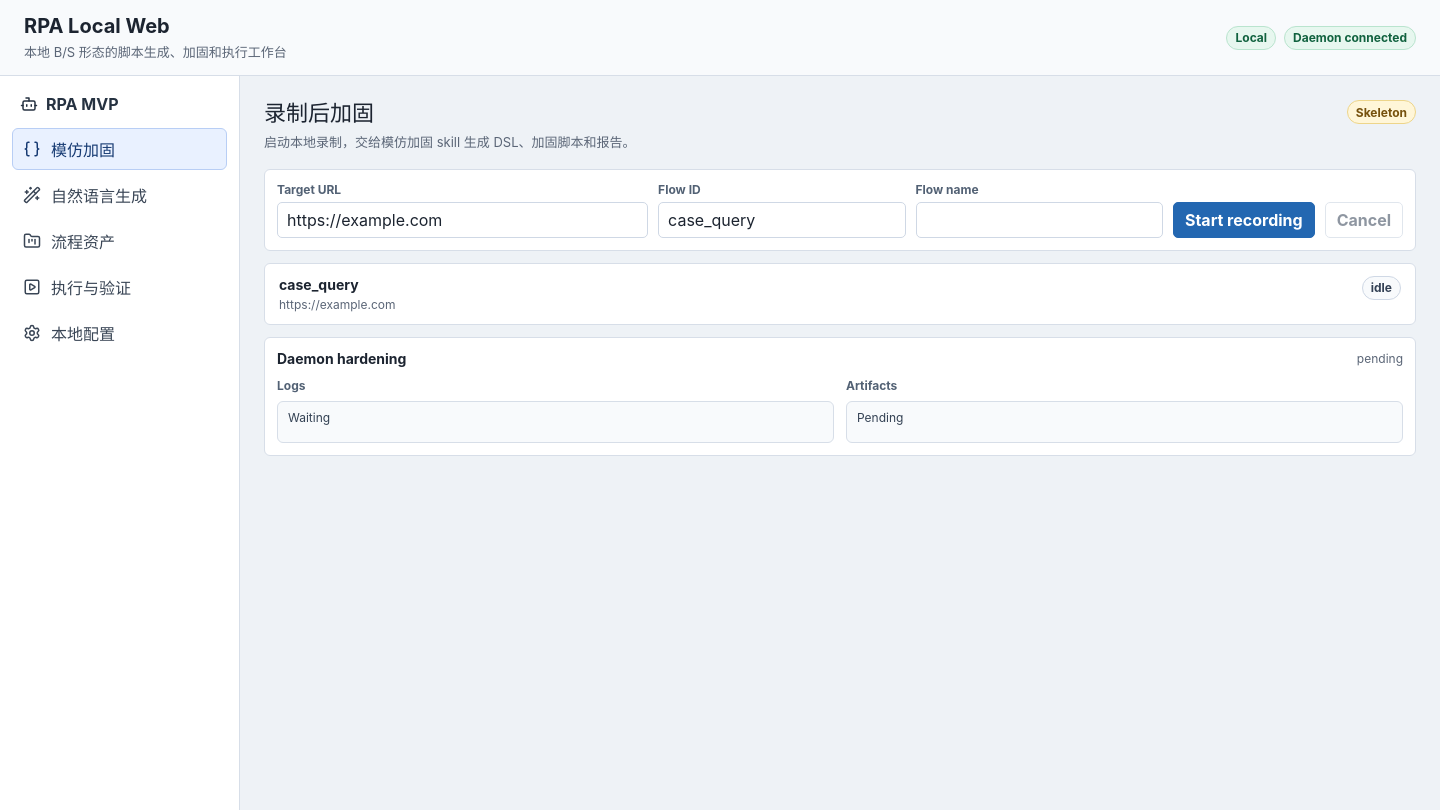
RPA local web app shell › renders dense workflow navigation and switches sections
Expected: the heading "RPA Local Web" is shown, [24, 14, 170, 38]
Expected: the heading "录制后加固" is shown, [264, 100, 374, 126]
Click the tab "自然语言生成": (120, 195) [12, 174, 227, 216]
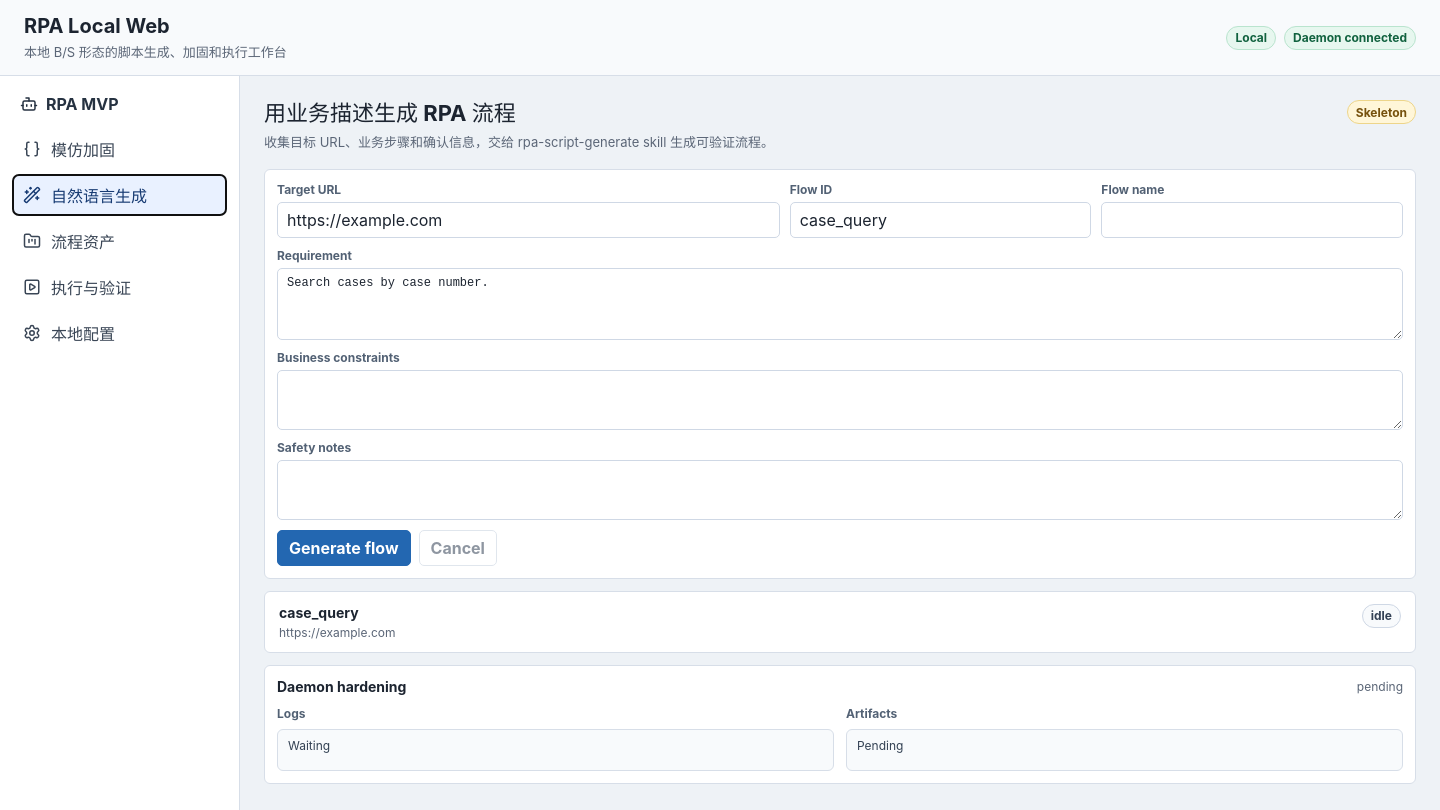
Now the heading "用业务描述生成 RPA 流程" is shown, box [264, 100, 516, 126]
Click the tab "执行与验证": (120, 287) [12, 266, 227, 308]
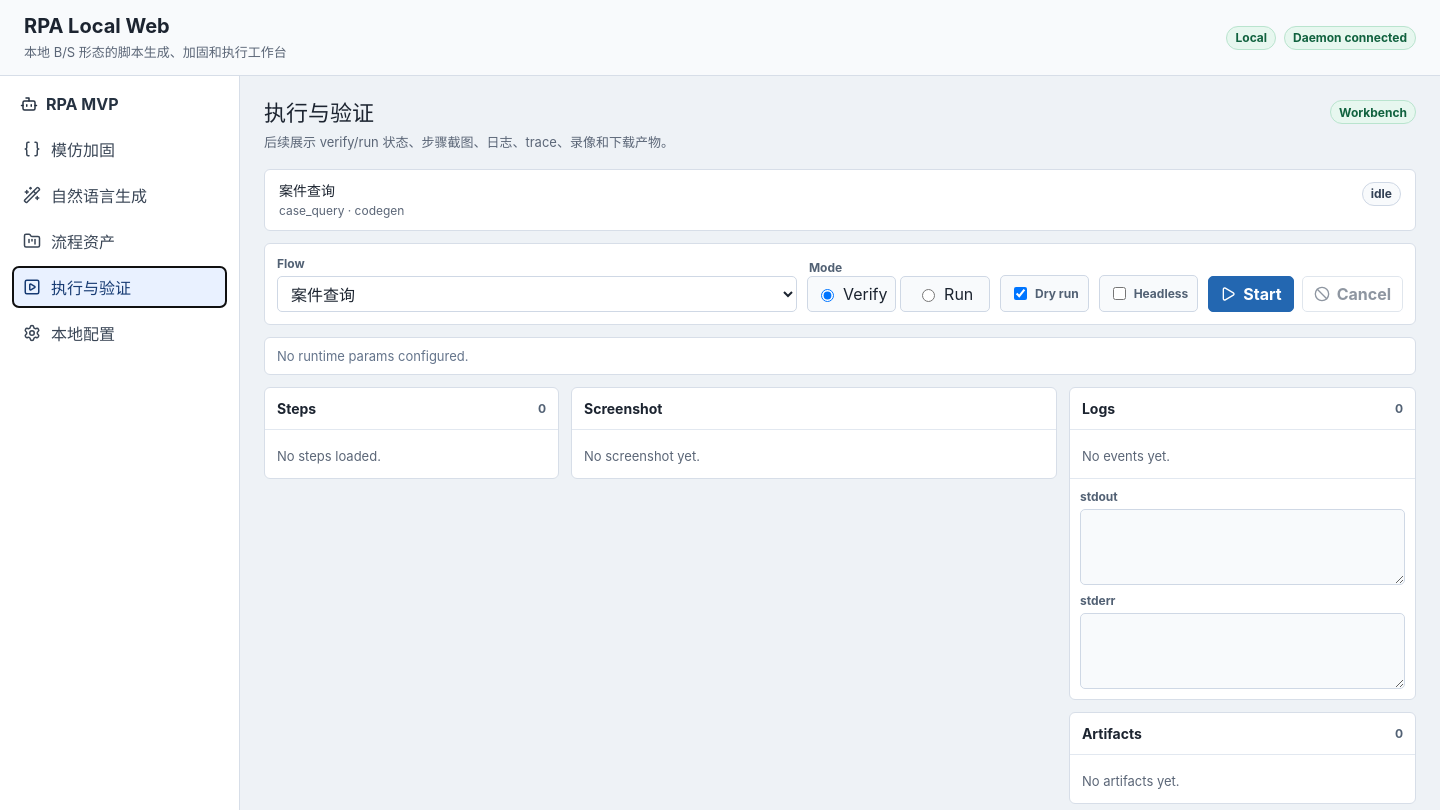
Now the element named "Execution controls" is shown, box [264, 243, 1416, 325]
Now the dropdown labelled "Flow" shows "案件查询", box [277, 276, 797, 312]
